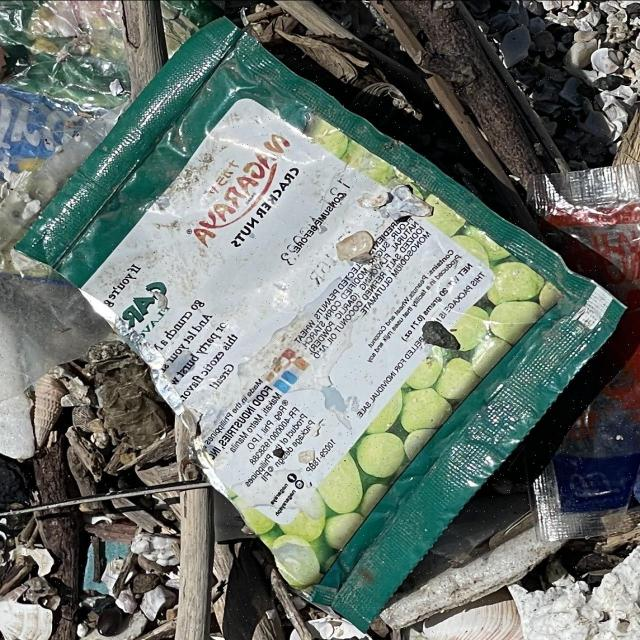plastic_waste: (13, 14, 632, 632)
